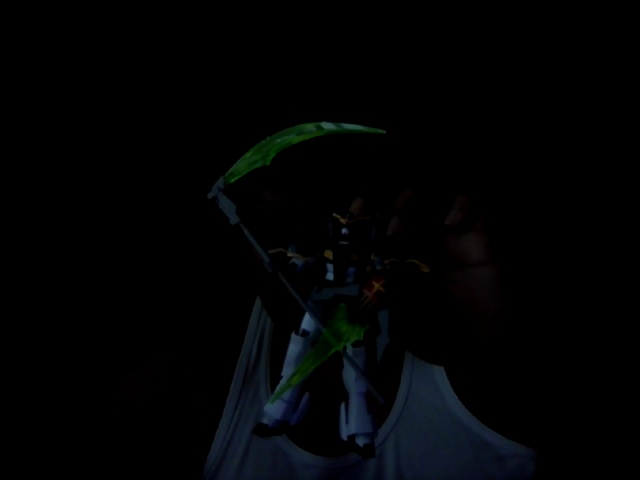Deathsythe: (255, 202, 429, 450)
